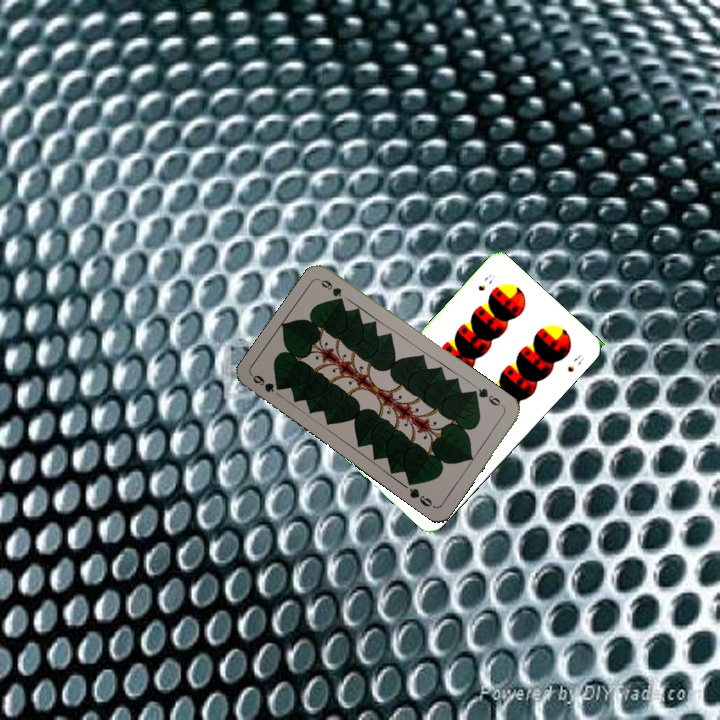G9: (470, 384, 507, 411), (249, 371, 285, 395)
S8: (474, 269, 498, 294)
